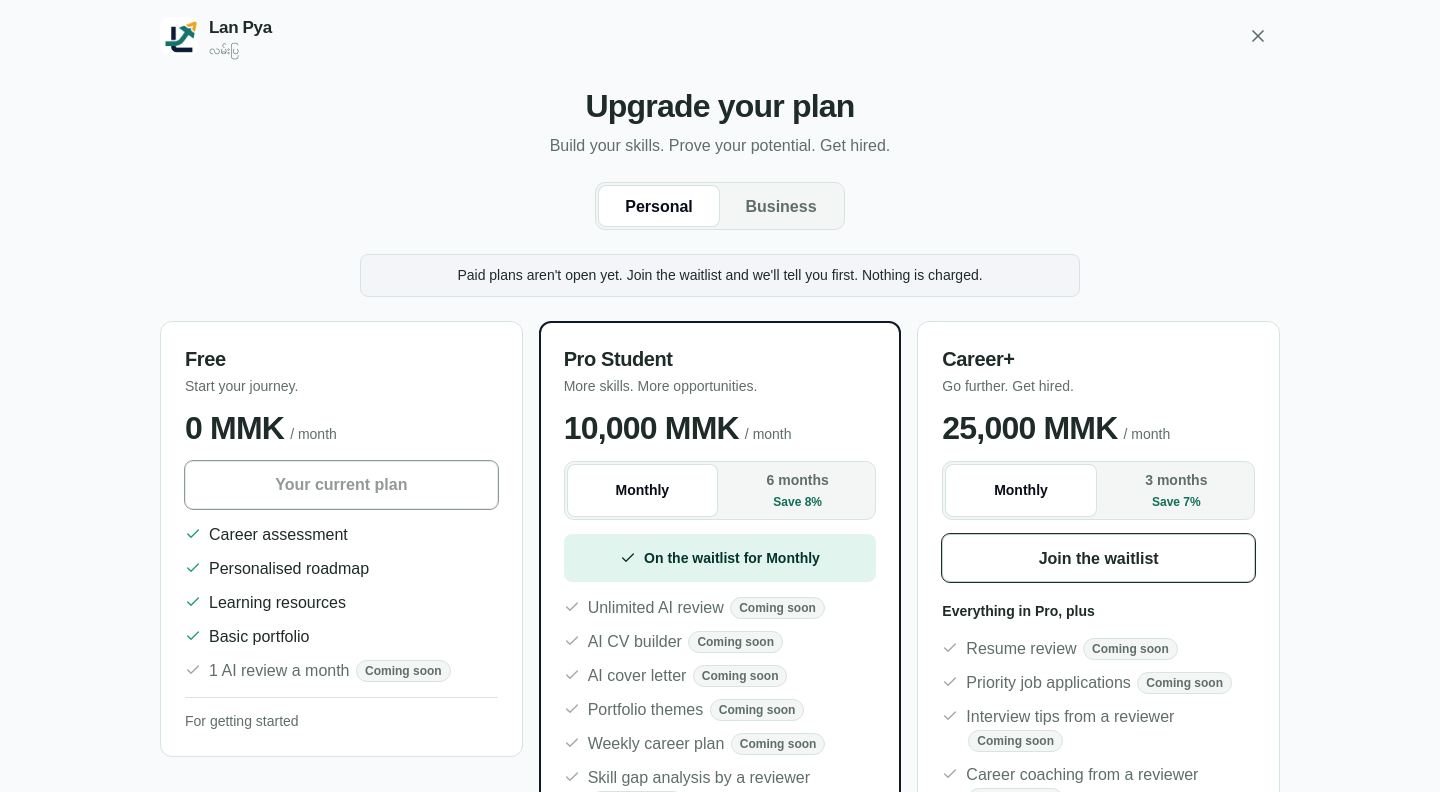
Test case: PricingView › remembers a learner already on the list and offers to change period
Check: the text "On the waitlist for Monthly" is shown, box [564,534,876,582]
Click the radio button labelled "6 months Save 8%" at (798, 490), box [723,465,872,516]
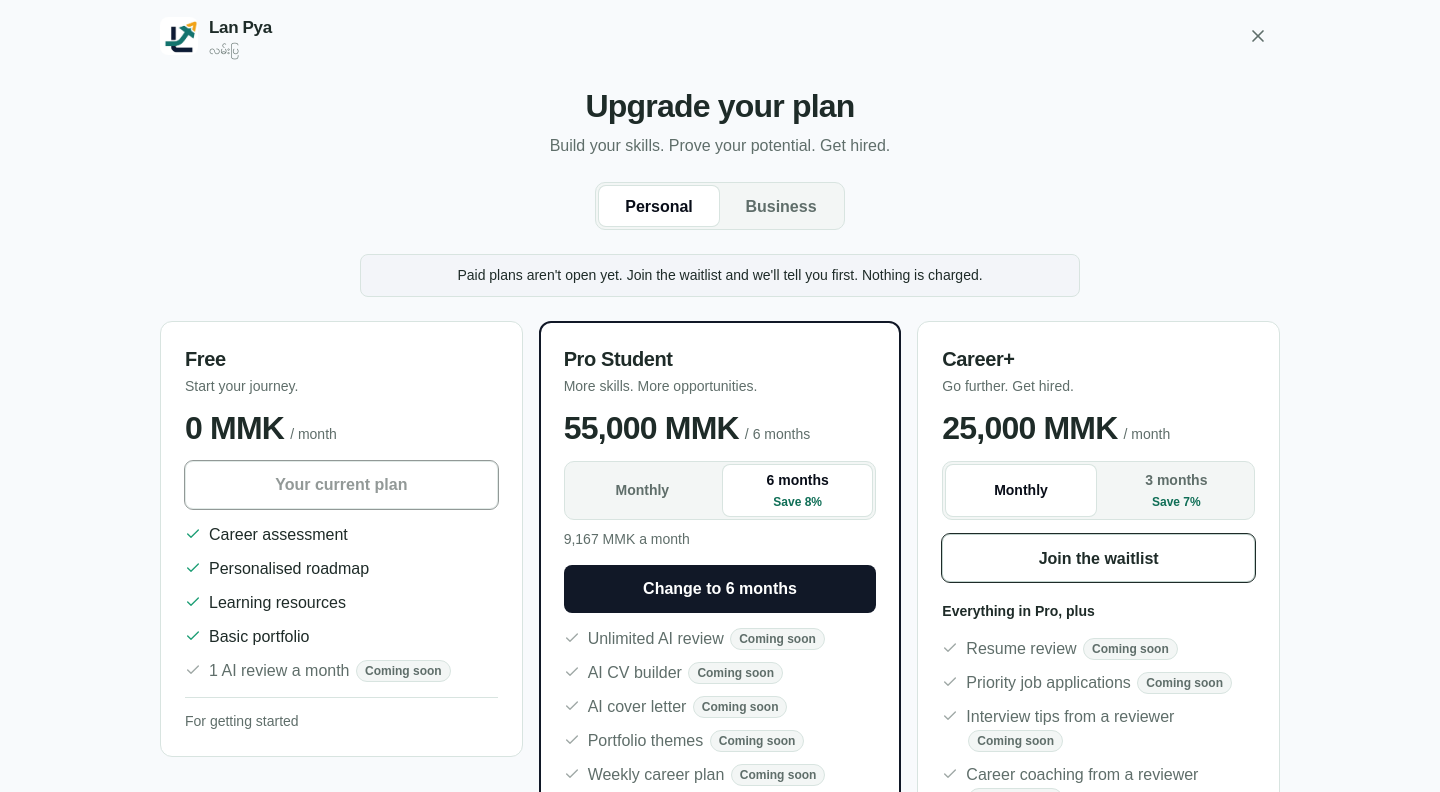
Check: the button "Change to 6 months" is shown, box [564,564,876,612]
